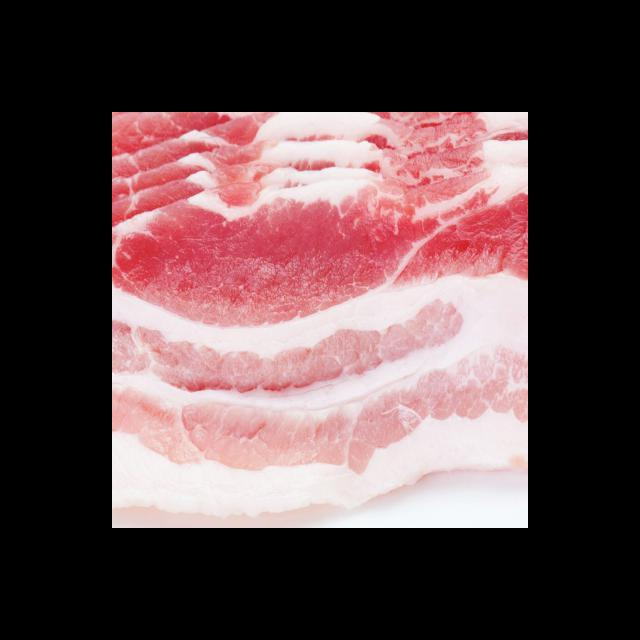pork: (112, 112, 527, 527)
